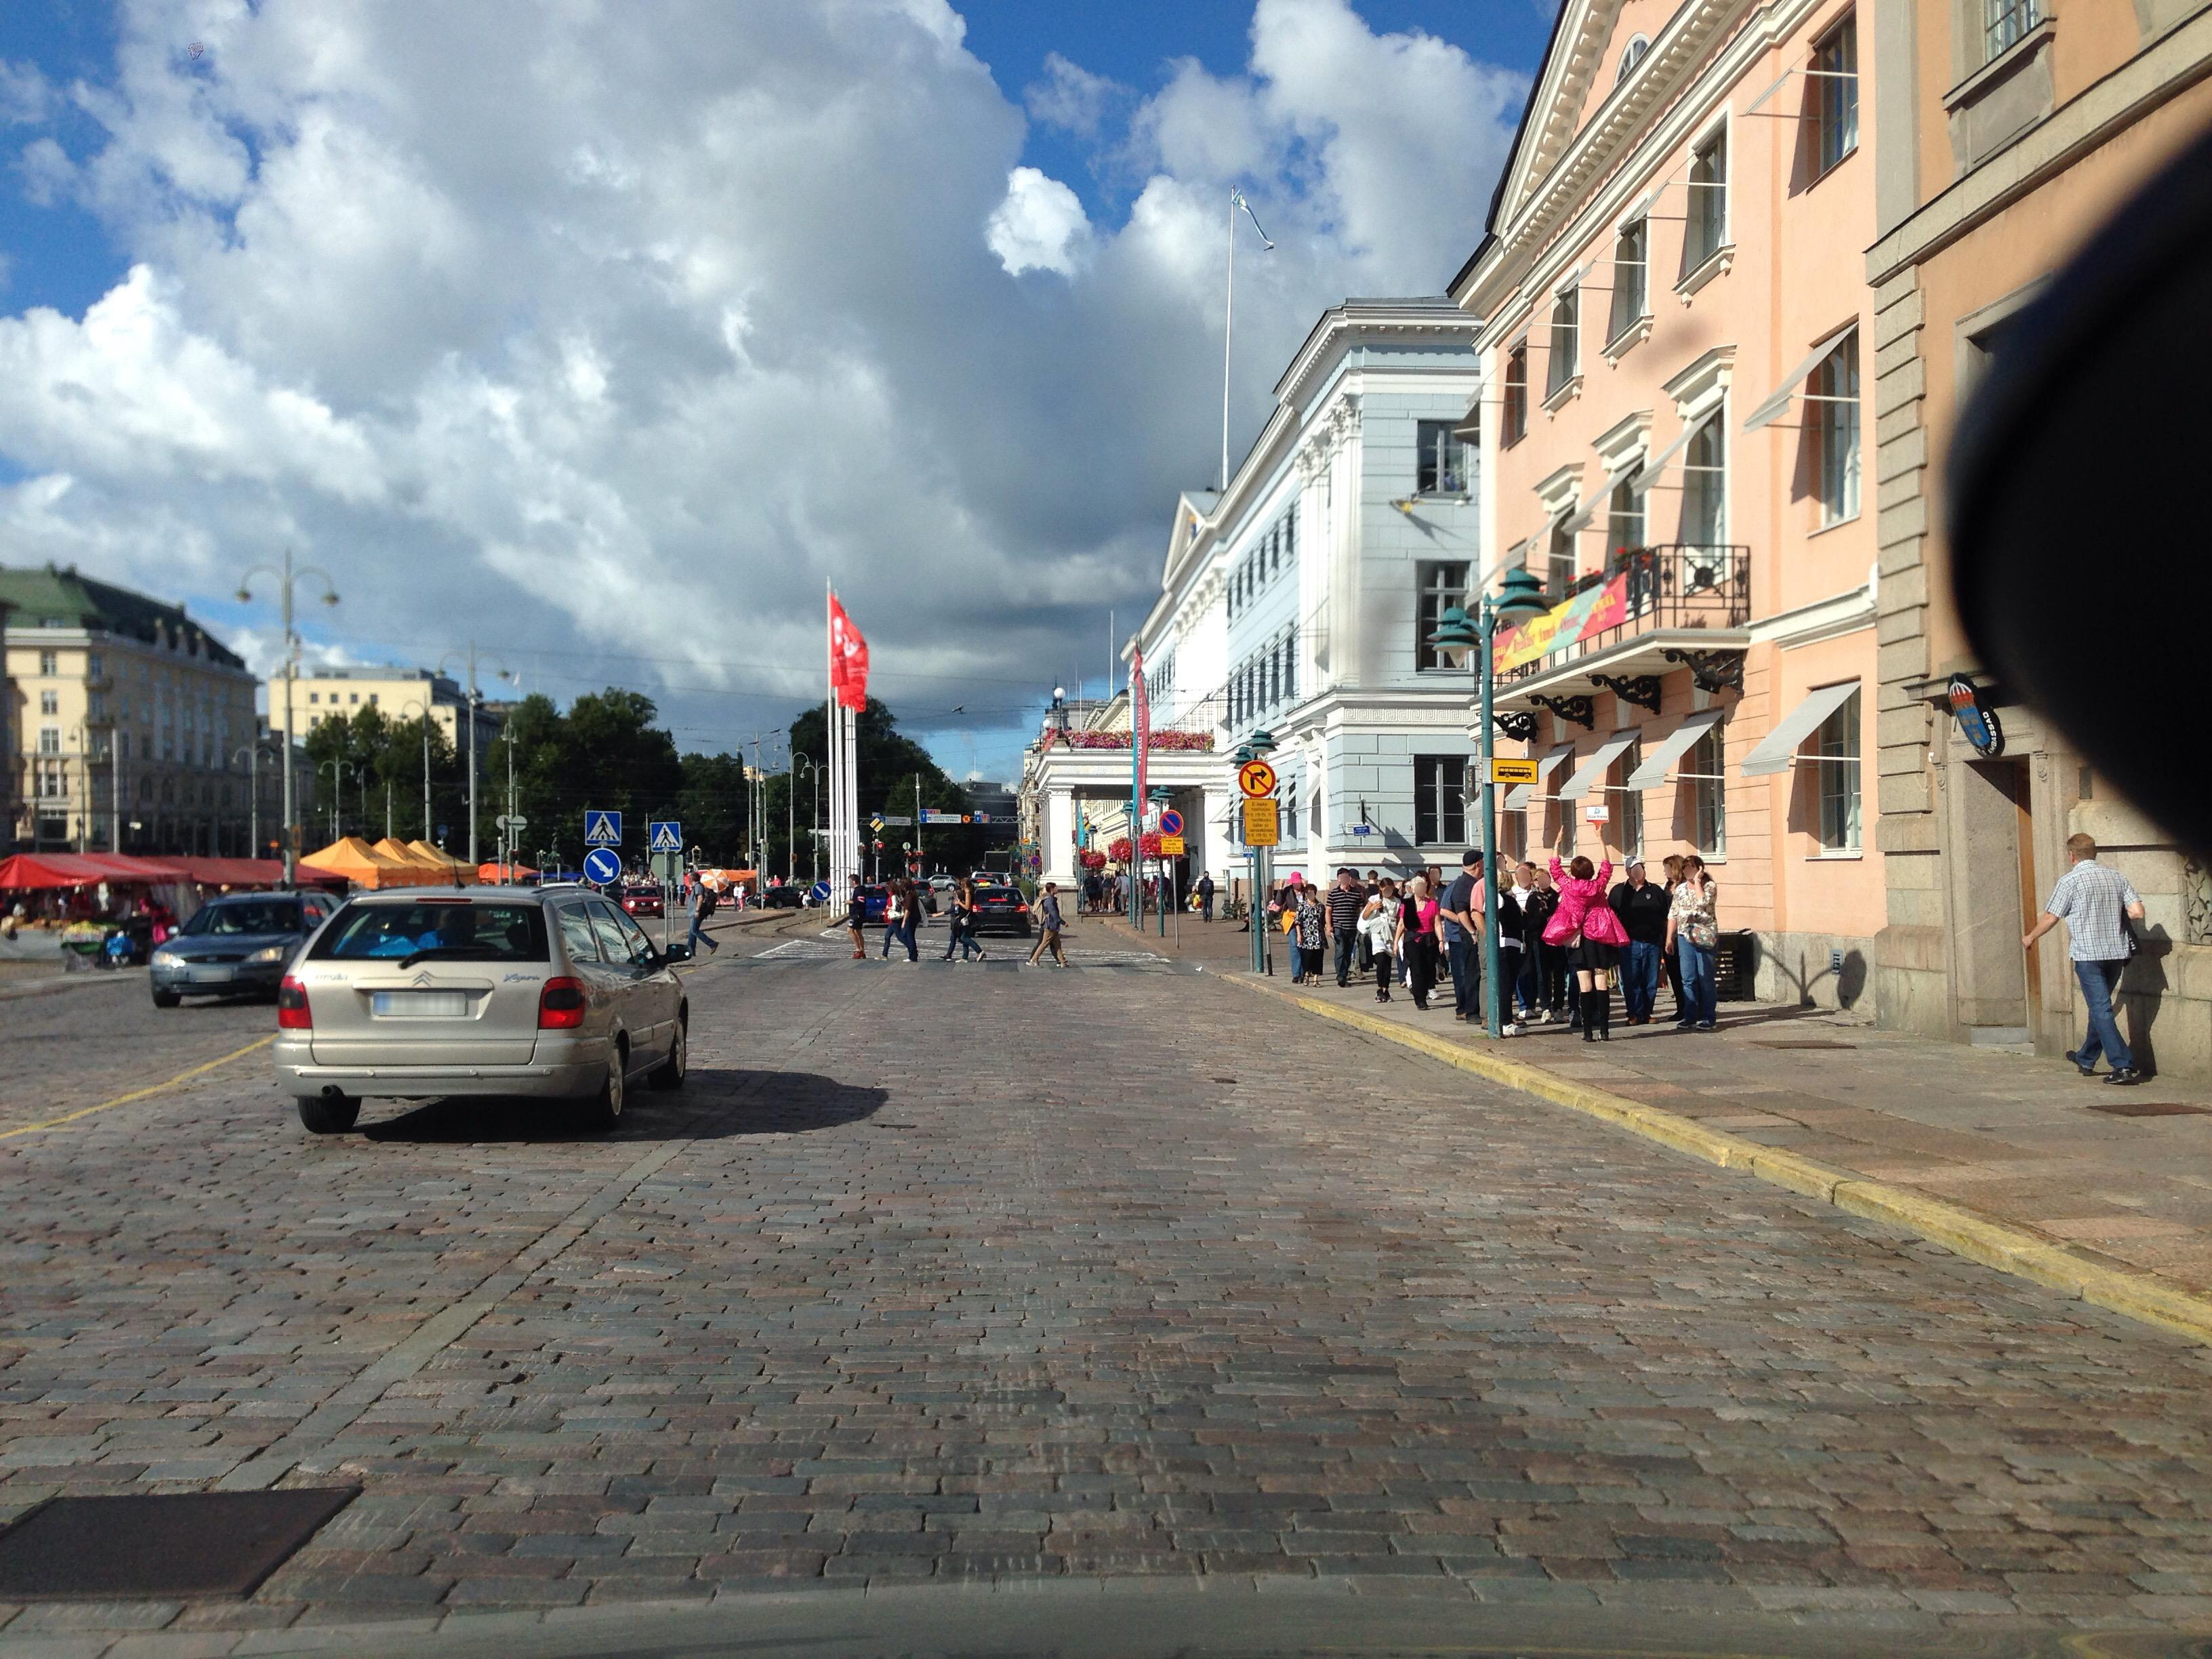vinyl banner: (1472, 575, 1646, 687)
